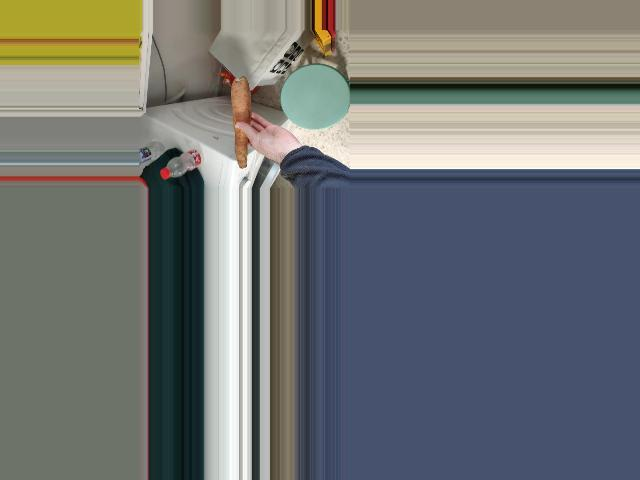sweet_potato: (229, 79, 258, 169)
